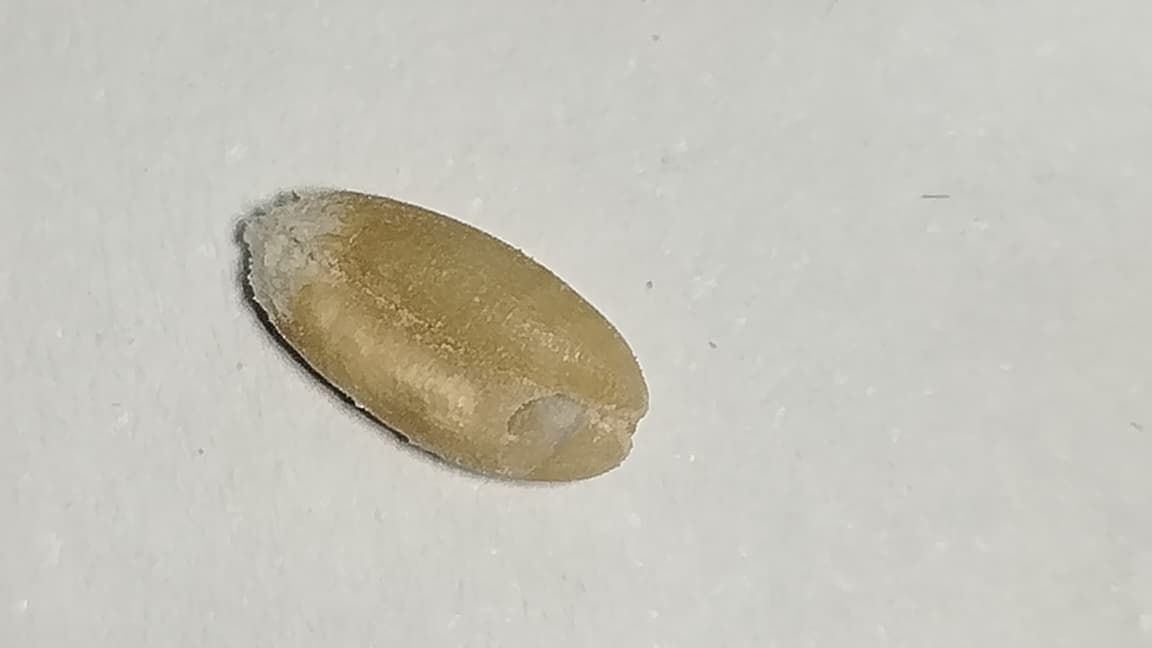damage: (244, 191, 648, 480)
insectdamage: (485, 372, 638, 484)
